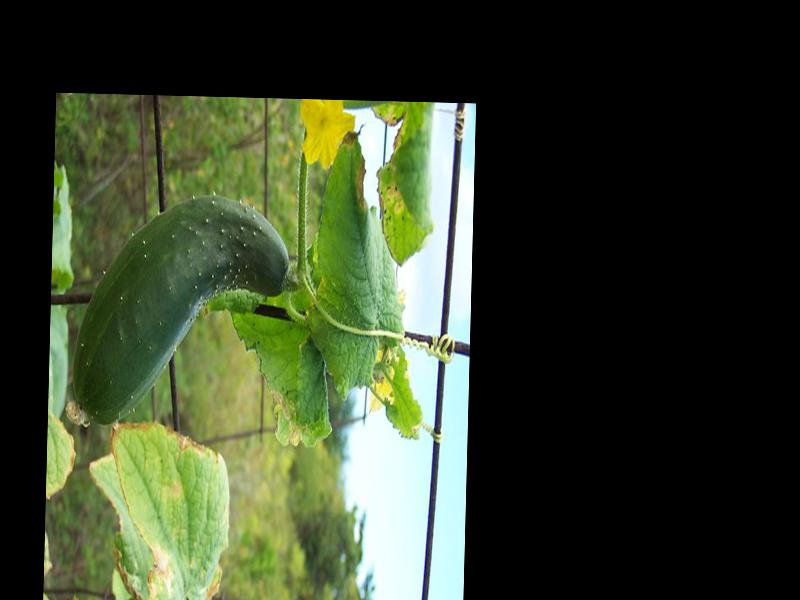Cucumber: (70, 194, 293, 432)
